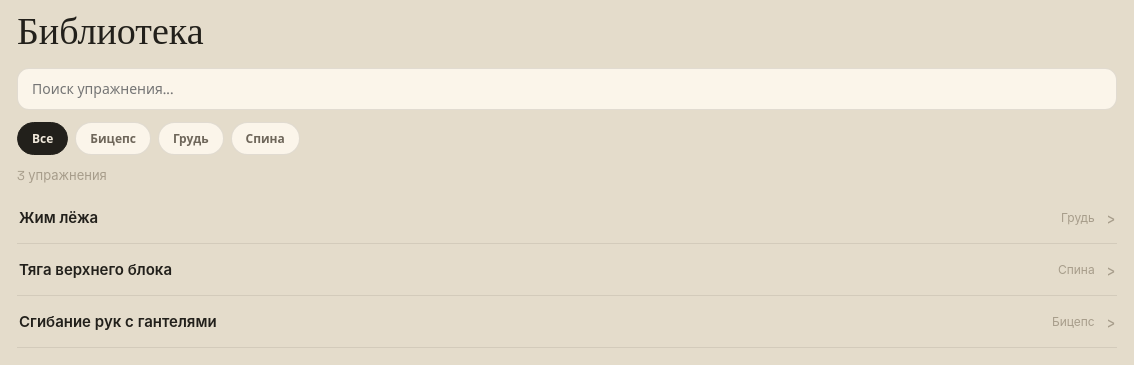
Scenario: ExerciseLibraryScreen › filters exercises by search text and muscle group without changing the exercise data
The image size is (1134, 365).
Expected: the search field labelled "Поиск упражнения..." is shown, [17,68,1117,110]
Expected: the text "3 упражнения" is shown, [17,167,107,184]
Click the button "Спина".
click(265, 138)  # box [230,122,300,155]
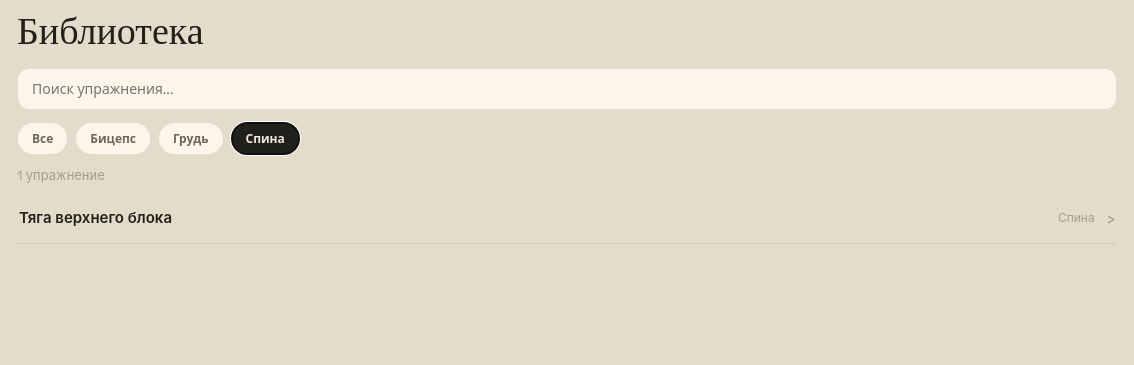
Expected: the text "Тяга верхнего блока" is shown, [19,208,172,227]
Expected: the text "1 упражнение" is shown, [17,167,105,184]
Expected: the button "Жим лёжа" is gone
Type "жим" into the search field labelled "Поиск упражнения...".
click(567, 89); type("жим")  # box [17,68,1117,110]
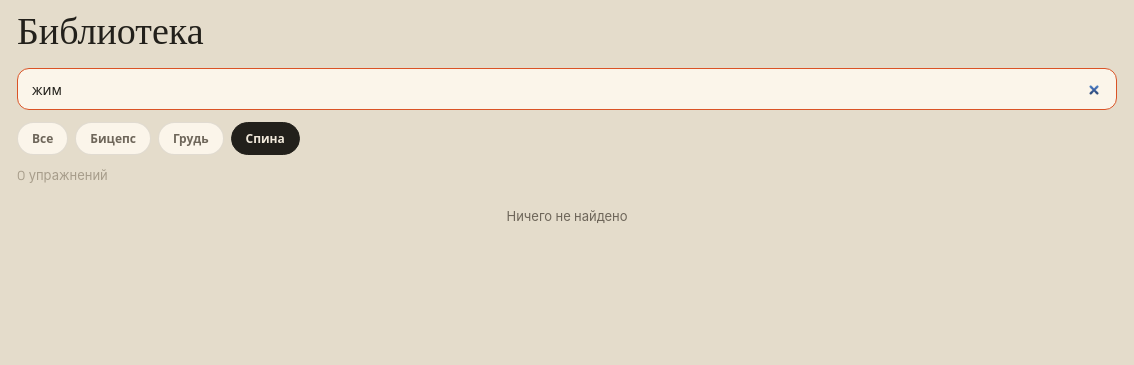
Expected: the text "Ничего не найдено" is shown, [506,208,628,225]
Click the button "Грудь".
click(191, 138)  # box [158,122,224,155]
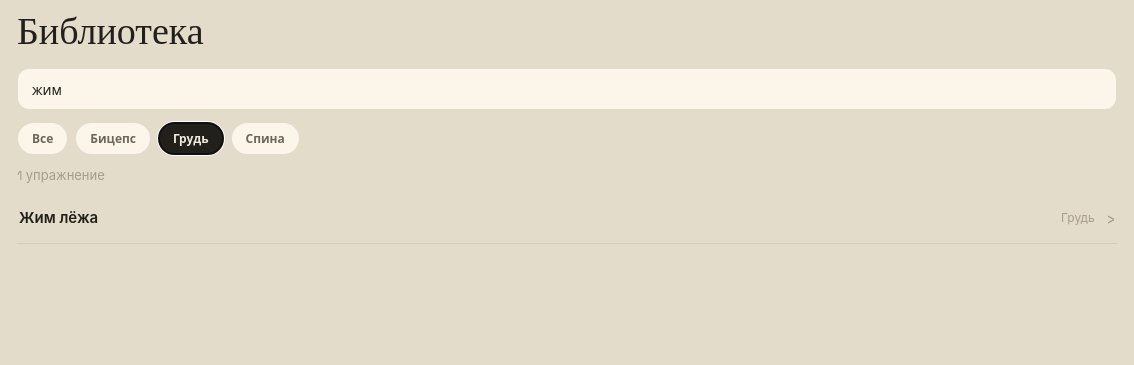
Expected: the text "1 упражнение" is shown, [17,167,105,184]
Expected: the text "Жим лёжа" is shown, [19,208,98,227]
Clear the search field named "Поиск упражнения" at (567, 89), box [17,68,1117,110]
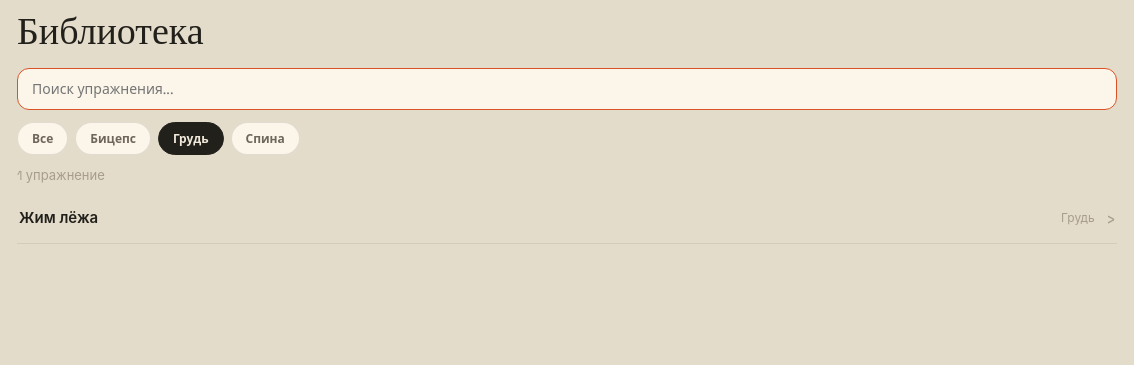
Click the button "Все".
click(43, 138)  # box [17,122,68,155]
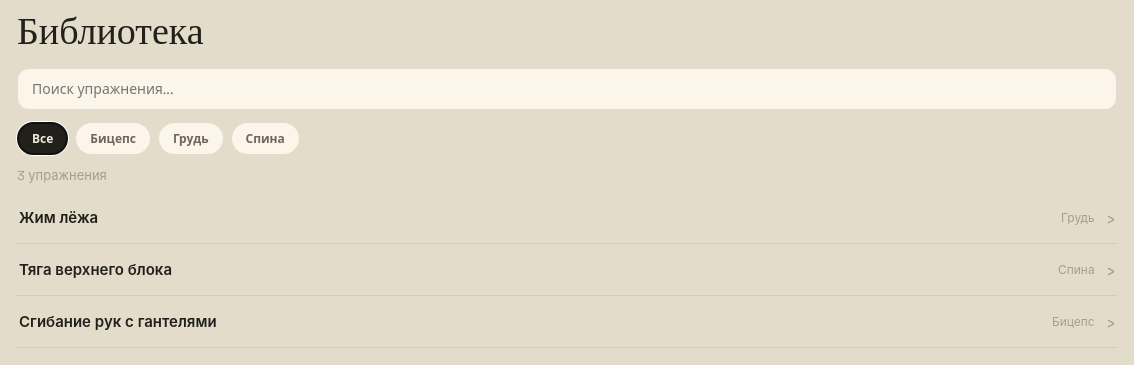
Expected: the text "3 упражнения" is shown, [17,167,107,184]
